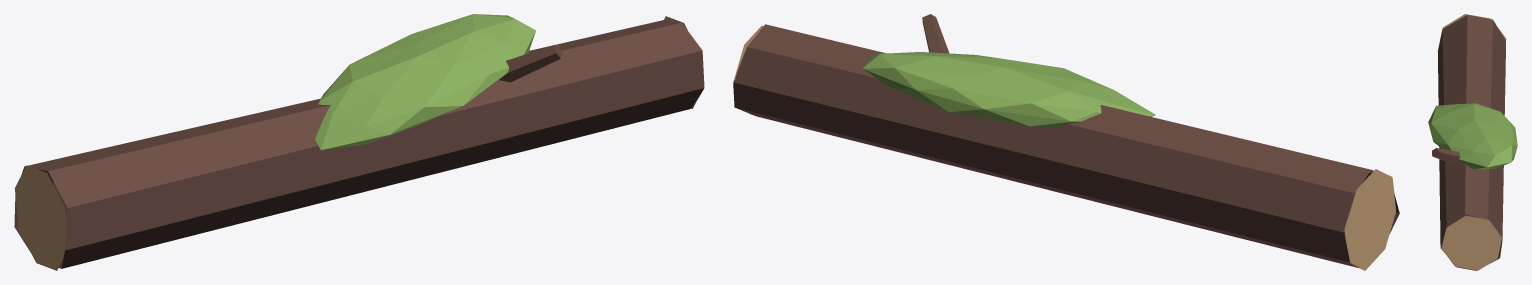
Rendered from log.glb.
3 views of the same model, side by side, from view 1: azimuth 30°, elevation 25°; view 2: azimuth 150°, elevation 25°; view 3: azimuth 270°, elevation 25° (orthographic). The views are drawn at different scales.
Visible parts, largest first — view 1: log; view 2: log; view 3: log.
Boxes of the visible parts, box(x1,y1,x2,y2) form: log: box(14, 14, 704, 270); log: box(733, 14, 1399, 270); log: box(1428, 14, 1517, 270).
Size of the model in its own units: 3.24 by 0.5968 by 0.6114.
